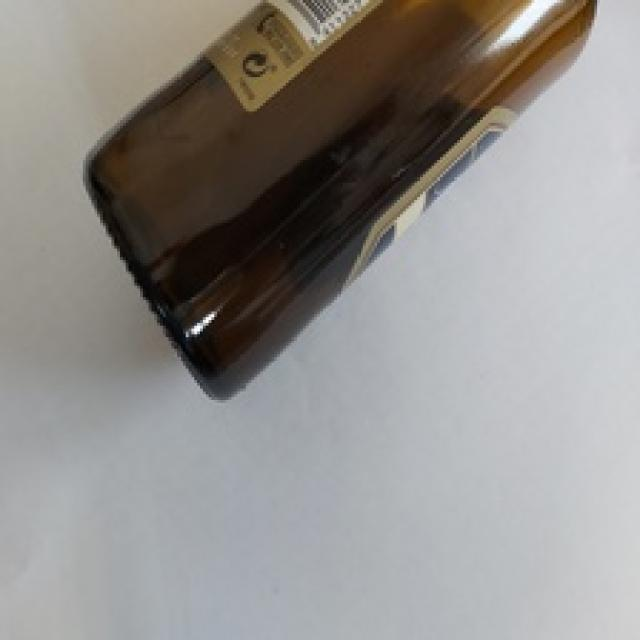Glass: (86, 0, 598, 398)
